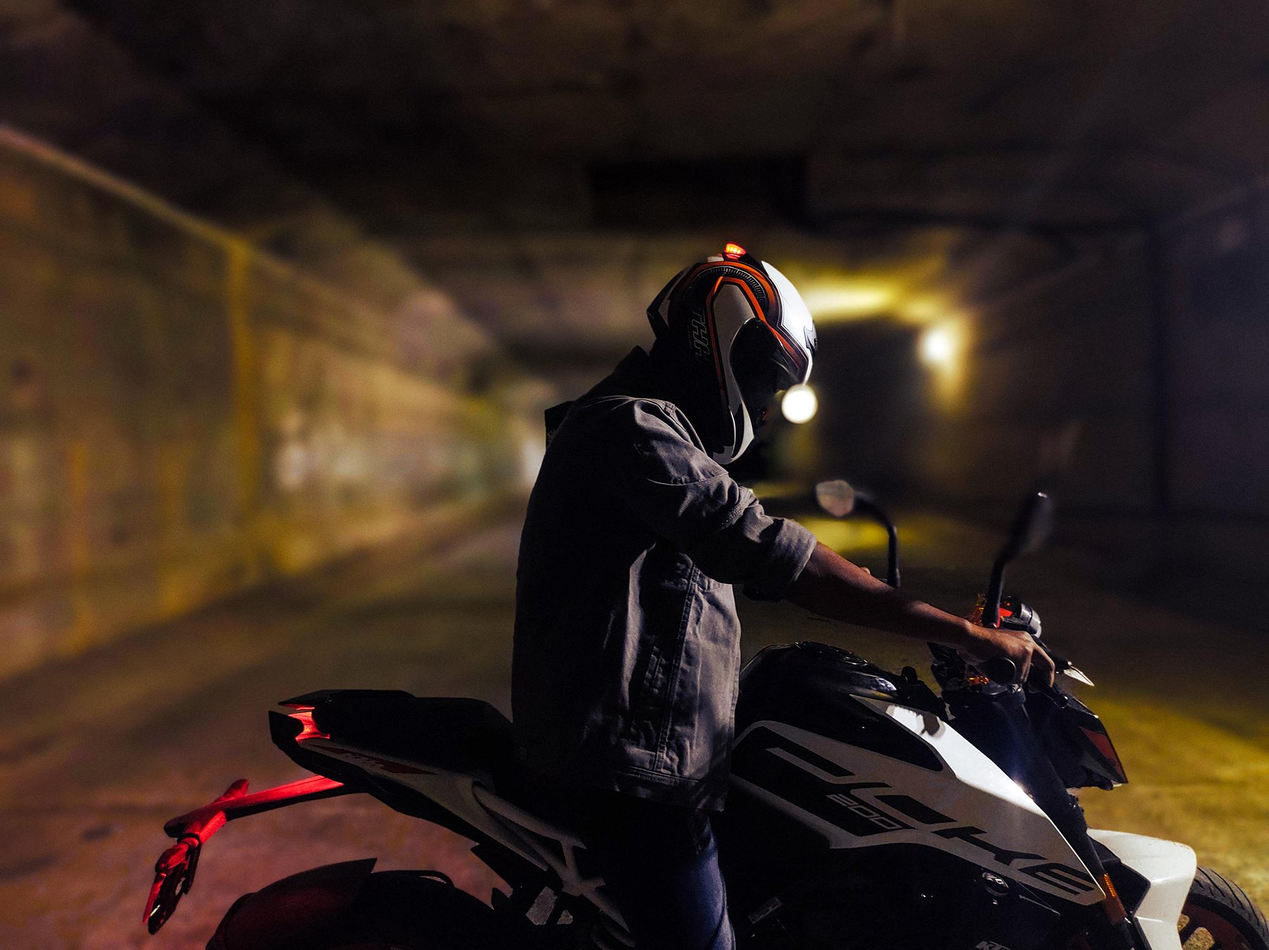helmet: (646, 240, 820, 467)
